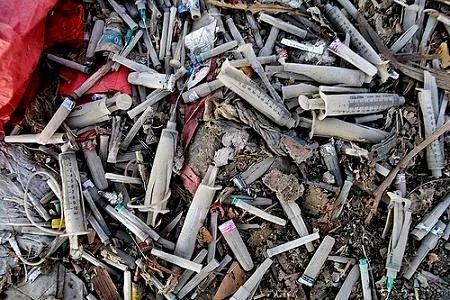plastic: (217, 58, 301, 129), (138, 109, 177, 228), (322, 2, 391, 67), (55, 143, 93, 261), (411, 74, 448, 180), (295, 87, 407, 120), (298, 111, 392, 149), (182, 165, 216, 261), (57, 91, 135, 127), (385, 184, 410, 294)
